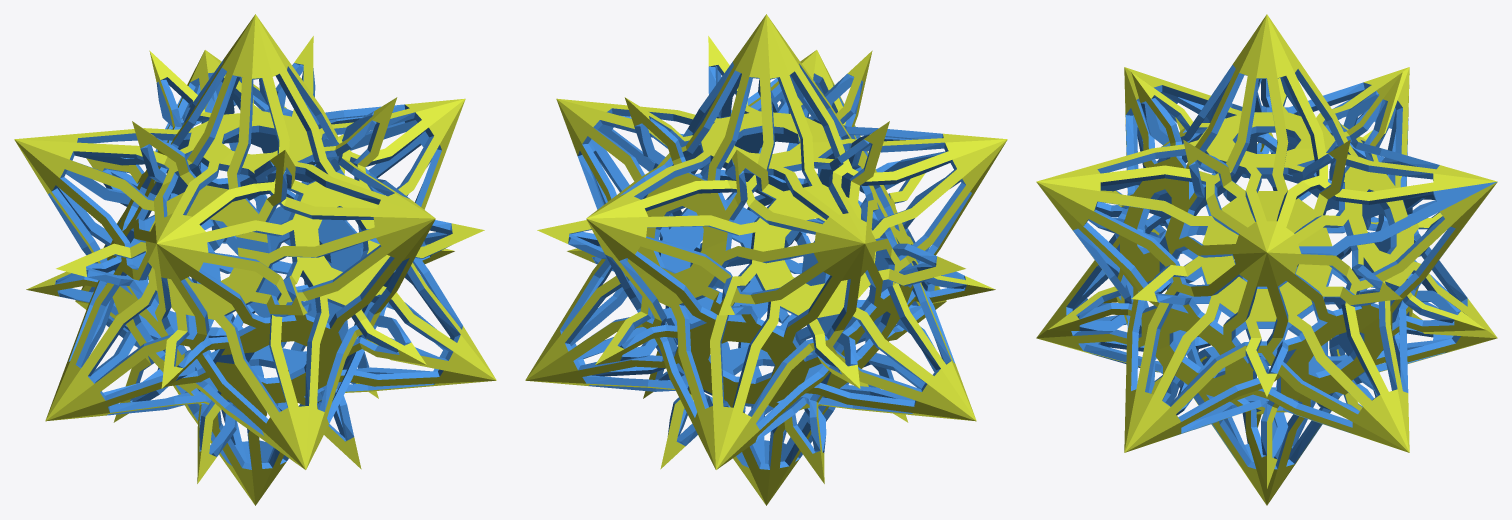
The model's file is StarPolyknotTruncatedDodecahedron1.glb.
The picture shows the model from 3 angles, left to right: view 1: azimuth 30°, elevation 25°; view 2: azimuth 150°, elevation 25°; view 3: azimuth 270°, elevation 25°; orthographic projection.
Parts seen in each view (by area): view 1: ESCHER_BBBa_A10; view 2: ESCHER_BBBa_A10; view 3: ESCHER_BBBa_A10.
Boxes of the visible parts, x1,y1,x2,y2 form: ESCHER_BBBa_A10: [14, 14, 496, 505]; ESCHER_BBBa_A10: [525, 14, 1007, 505]; ESCHER_BBBa_A10: [1036, 14, 1497, 505].
Size of the model in its own units: 134 by 150 by 128.
